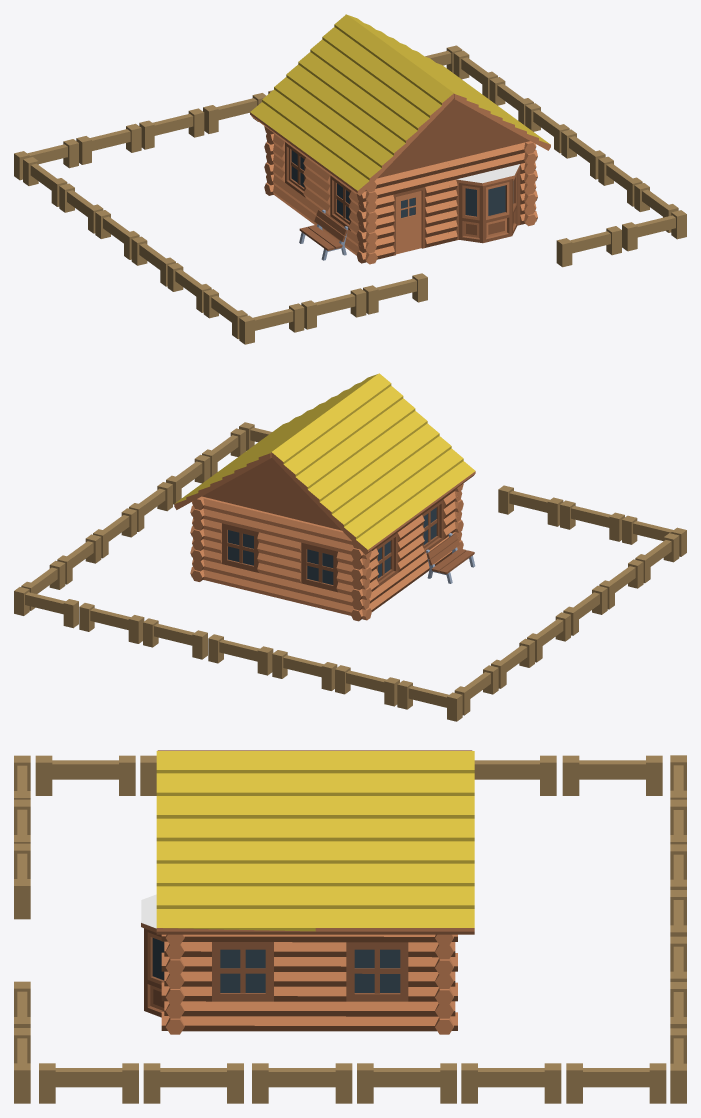
File: Hütte.obj
3 renders of one model, top to bottom at view 1: azimuth 30°, elevation 25°; view 2: azimuth 150°, elevation 25°; view 3: azimuth 270°, elevation 25°, orthographic. The views are drawn at different scales.
Parts seen in each view (by area): view 1: cabinRoof_1, cabinRoof_1_1, frame_2, cabinDoor, cabinSideCenter_1_1, cabinSideCenter, cabinWindowLarge, cabinWindow_1.1, cabinRoof_2, door, cabinWindow_1.2, cabinCorner_1_1 (+28 smaller); view 2: cabinRoof_1_1, cabinRoof_1, cabinWindow_1.3, cabinWindow_1.4, cabinSideCenter_1, cabinWindow_1.1, cabinRoof, cabinWindow_1.2, frame.4, frame.3, Mesh1_Wood_Fence_Model.9, Mesh1_Wood_Fence_Model.12 (+25 smaller); view 3: cabinRoof, cabinRoof_2, cabinWindow_1, cabinWindow_1_1, frame, frame_1, Mesh1_Wood_Fence_Model.20, Mesh1_Wood_Fence_Model.19, Mesh1_Wood_Fence_Model.17, Mesh1_Wood_Fence_Model.16, Mesh1_Wood_Fence_Model.8, Mesh1_Wood_Fence_Model.3 (+19 smaller).
Part boxes in pixels (x1,y1,x2,y2): cabinRoof_1: [304, 53, 454, 195]; cabinRoof_1_1: [250, 14, 399, 155]; frame_2: [456, 164, 520, 243]; cabinDoor: [374, 161, 449, 259]; cabinSideCenter_1_1: [380, 99, 529, 176]; cabinSideCenter: [377, 99, 483, 178]; cabinWindowLarge: [448, 142, 525, 242]; cabinWindow_1.1: [273, 133, 317, 225]; cabinRoof_2: [402, 55, 550, 150]; door: [396, 191, 421, 254]; cabinWindow_1.2: [315, 165, 360, 255]; cabinCorner_1_1: [356, 181, 377, 264]; cabinRoof_1_1: [271, 413, 421, 554]; cabinRoof_1: [325, 373, 475, 514]; cabinWindow_1.3: [202, 496, 281, 598]; cabinWindow_1.4: [278, 516, 353, 615]; cabinSideCenter_1: [202, 457, 341, 530]; cabinWindow_1.1: [368, 522, 412, 611]; cabinRoof: [174, 414, 322, 509]; cabinWindow_1.2: [409, 490, 458, 583]; frame.4: [301, 542, 337, 592]; frame.3: [222, 523, 258, 572]; Mesh1_Wood_Fence_Model.9: [397, 680, 462, 721]; Mesh1_Wood_Fence_Model.12: [208, 634, 273, 675]; cabinRoof: [315, 751, 474, 934]; cabinRoof_2: [156, 751, 315, 934]; cabinWindow_1: [310, 934, 438, 1031]; cabinWindow_1_1: [180, 934, 310, 1031]; frame: [346, 942, 408, 1001]; frame_1: [212, 942, 273, 1001]; Mesh1_Wood_Fence_Model.20: [143, 1063, 243, 1103]; Mesh1_Wood_Fence_Model.19: [252, 1063, 352, 1103]; Mesh1_Wood_Fence_Model.17: [461, 1063, 561, 1103]; Mesh1_Wood_Fence_Model.16: [566, 1063, 666, 1103]; Mesh1_Wood_Fence_Model.8: [562, 755, 662, 795]; Mesh1_Wood_Fence_Model.3: [35, 755, 135, 795].
Bounding box in the file's own units: 5.53 × 1.82 × 4.99.
